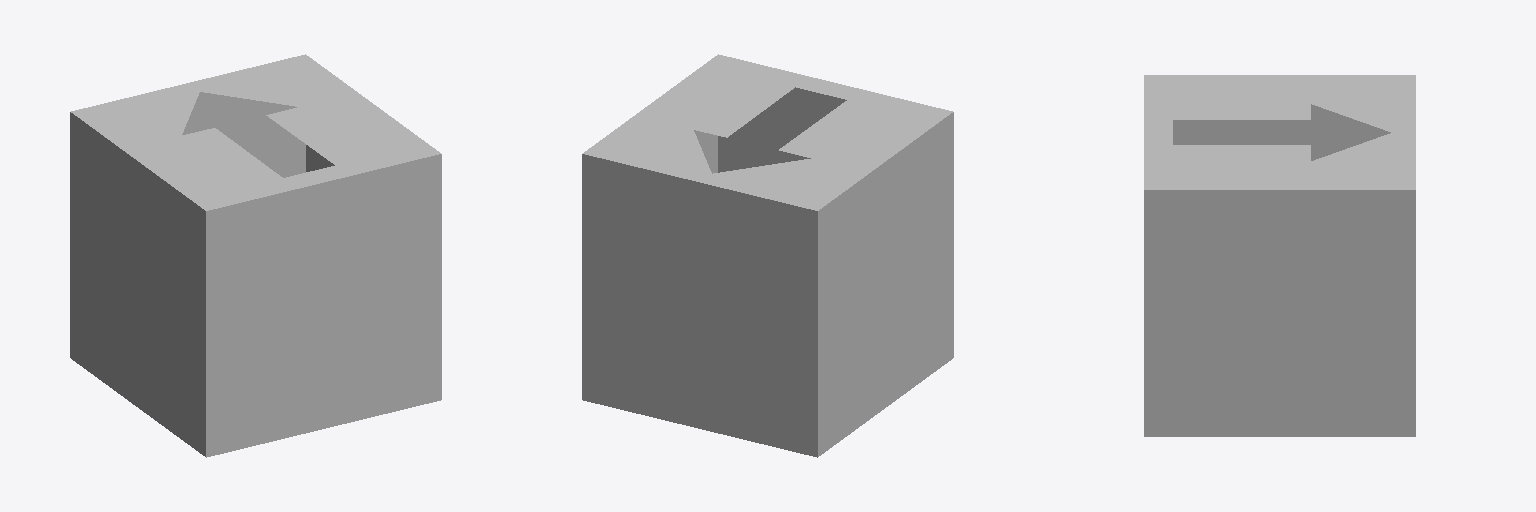
The model's file is Arrow_cube_bottle_base_preprocessed.obj.
The picture shows the model from 3 angles: view 1: azimuth 30°, elevation 25°; view 2: azimuth 150°, elevation 25°; view 3: azimuth 270°, elevation 25°; orthographic projection.
Size of the model in its own units: 0.08 by 0.08 by 0.08.